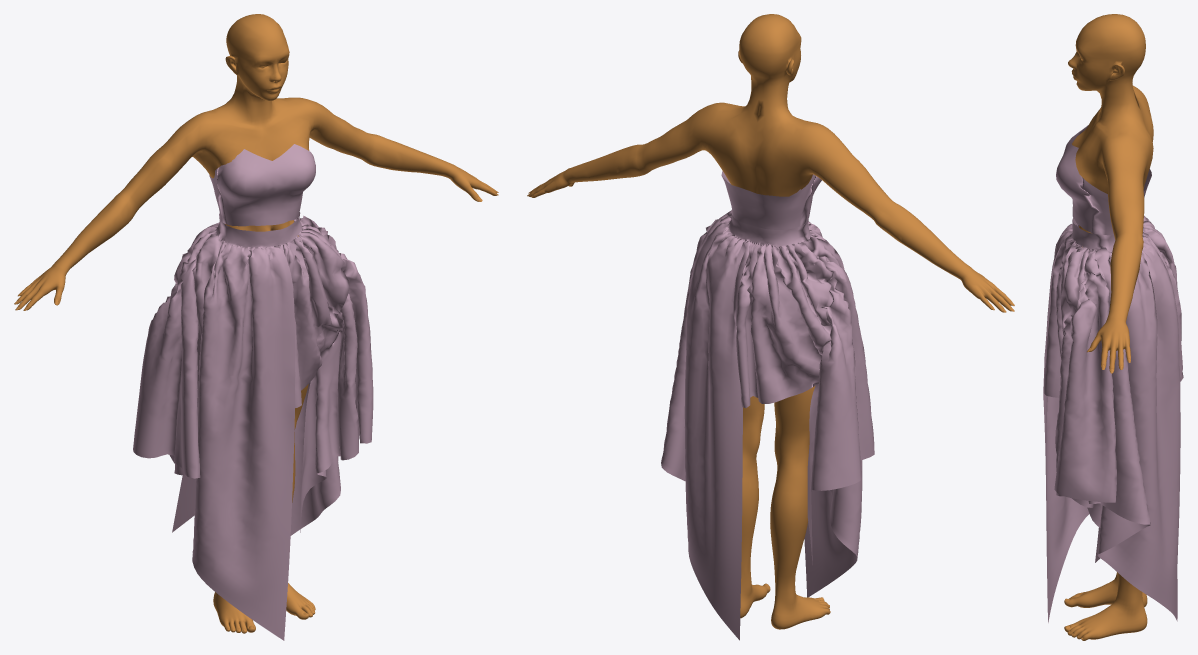
The model's file is dress8.glb.
The picture shows the model from 3 angles, left to right: view 1: azimuth 30°, elevation 25°; view 2: azimuth 150°, elevation 25°; view 3: azimuth 270°, elevation 25°; orthographic projection.
Visible parts, largest first — view 1: Project 1, Body; view 2: Project 1, Body; view 3: Project 1, Body.
Boxes of the visible parts, box(x1,y1,x2,y2) form: Project 1: box(133, 144, 373, 640); Body: box(16, 14, 498, 633); Project 1: box(661, 171, 874, 640); Body: box(528, 14, 1011, 629); Project 1: box(1043, 125, 1183, 622); Body: box(1064, 14, 1153, 640).
Bounding box in the file's own units: 1.58 × 1.87 × 0.3896.
